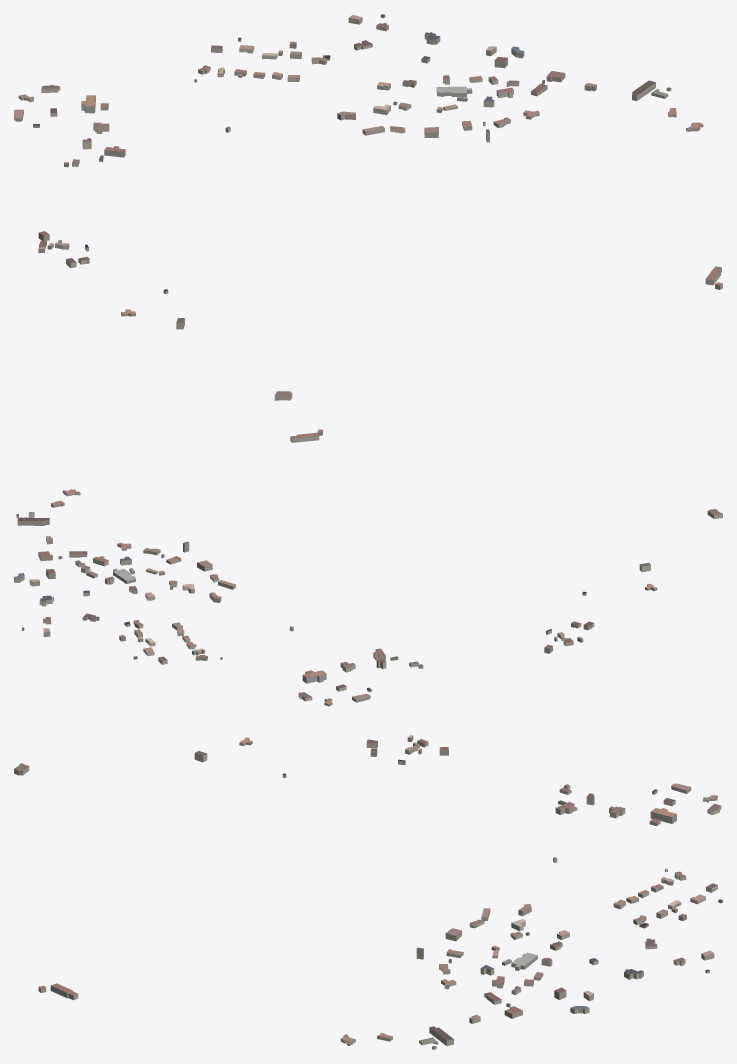
The picture shows the model from 3 angles, top to bottom: view 1: azimuth 30°, elevation 25°; view 2: azimuth 150°, elevation 25°; view 3: azimuth 270°, elevation 25°; orthographic projection. The views are drawn at different scales.
Parts seen in each view (by area): view 1: tuile; view 2: tuile; view 3: tuile.
Part boxes in pixels (x1=…): tuile: x1=14, y1=14, x2=722, y2=400; tuile: x1=14, y1=429, x2=722, y2=706; tuile: x1=14, y1=735, x2=722, y2=1049.
Bounding box in the file's own units: 1001 × 46.21 × 973.
